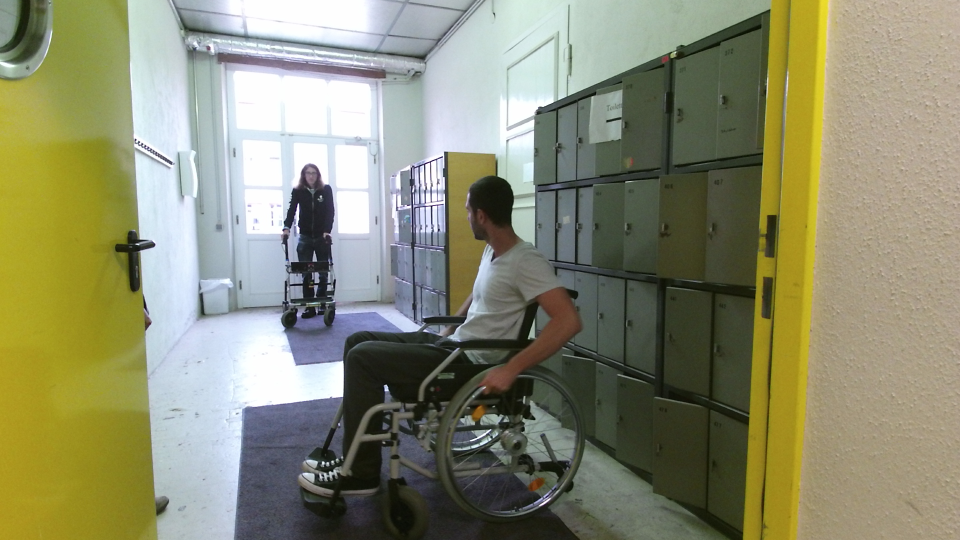wheelchair: (295, 169, 597, 540)
